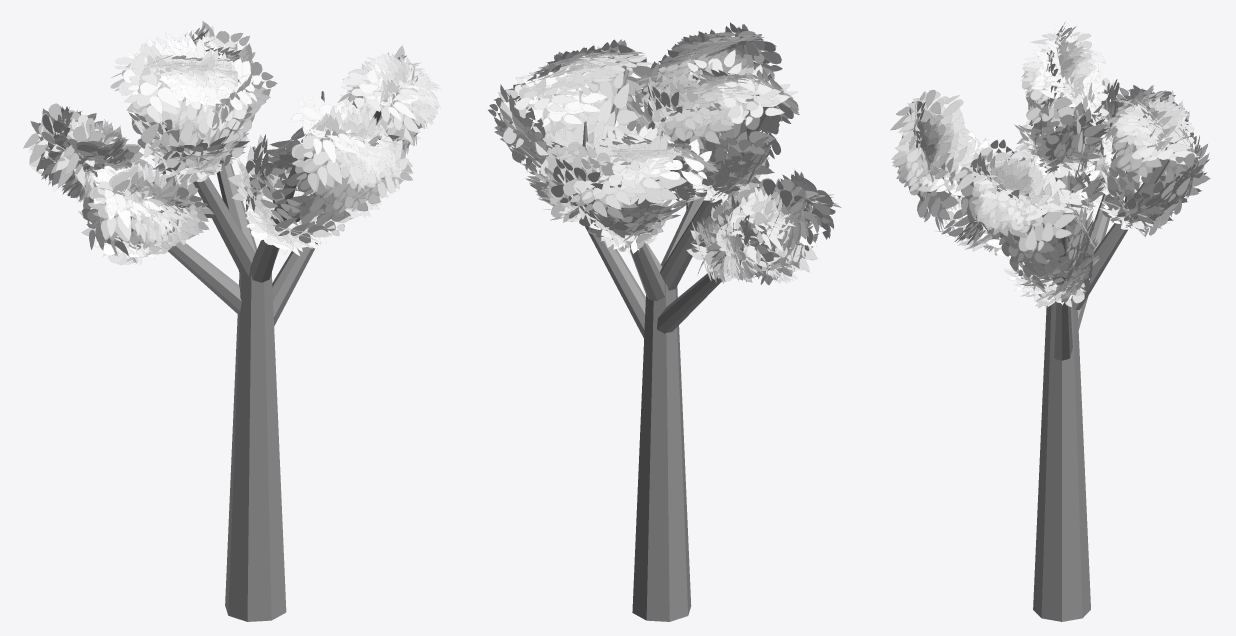
File: SM_SakuraTree.fbx
The picture shows the model from 3 angles, left to right: view 1: azimuth 30°, elevation 25°; view 2: azimuth 150°, elevation 25°; view 3: azimuth 270°, elevation 25°; orthographic projection. The views are drawn at different scales.
Visible parts, largest first — view 1: SM_Tree1; view 2: SM_Tree1; view 3: SM_Tree1.
Part boxes in pixels (x1,y1,x2,y2): SM_Tree1: (23,21,440,621); SM_Tree1: (488,22,841,621); SM_Tree1: (890,22,1210,621).
Size of the model in its own units: 415 by 626 by 353.
Materials: 2 (1 with a texture image).
